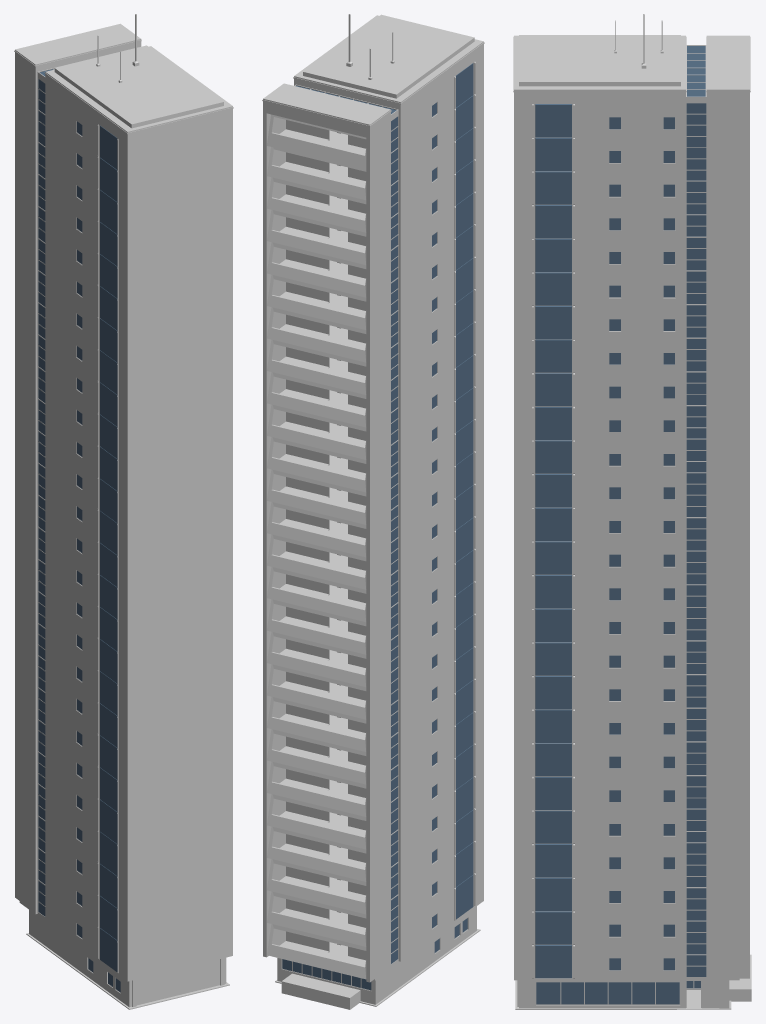
Rendered from res_10.glb.
The picture shows the model from 3 angles, left to right: view 1: azimuth 30°, elevation 25°; view 2: azimuth 150°, elevation 25°; view 3: azimuth 270°, elevation 25°; orthographic projection. The views are drawn at different scales.
Parts seen in each view (by area): view 1: Residential Buildings 010; view 2: Residential Buildings 010; view 3: Residential Buildings 010.
Boxes of the visible parts, x1,y1,x2,y2 form: Residential Buildings 010: [14, 14, 233, 1009]; Residential Buildings 010: [262, 14, 484, 1009]; Residential Buildings 010: [513, 14, 751, 1009].
Size of the model in its own units: 12.6 by 105 by 23.09.
